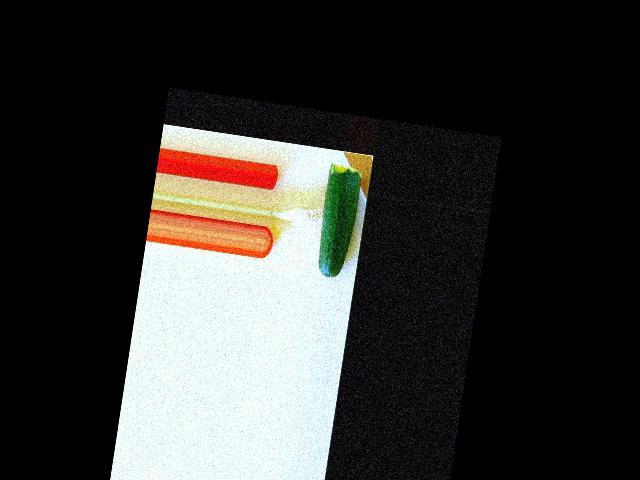cucumber: (314, 163, 363, 281)
